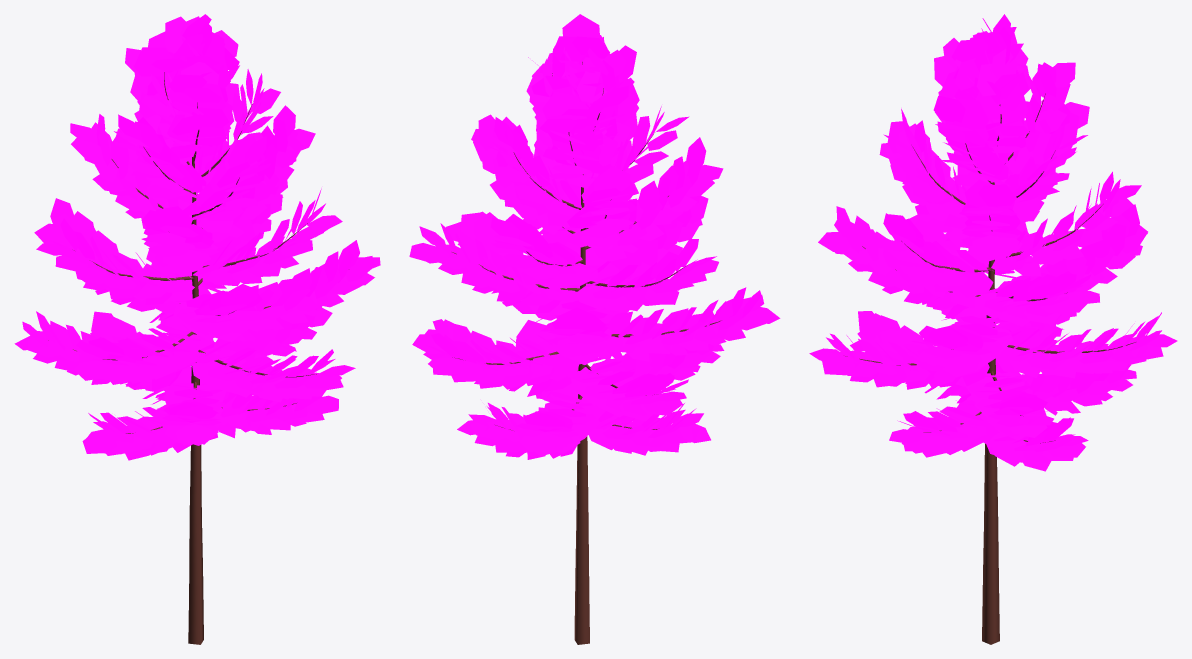
Rendered from Hidden_tree_1.glb.
The picture shows the model from 3 angles, left to right: view 1: azimuth 30°, elevation 25°; view 2: azimuth 150°, elevation 25°; view 3: azimuth 270°, elevation 25°; orthographic projection.
Visible parts, largest first — view 1: leaves, tree; view 2: leaves, tree; view 3: leaves, tree.
Boxes of the visible parts, x1,y1,x2,y2 form: leaves: [14, 14, 380, 460]; tree: [48, 72, 316, 644]; leaves: [409, 14, 780, 459]; tree: [452, 62, 721, 644]; leaves: [809, 14, 1177, 471]; tree: [845, 93, 1135, 644].
Size of the model in its own units: 9.56 by 18.19 by 9.73.
